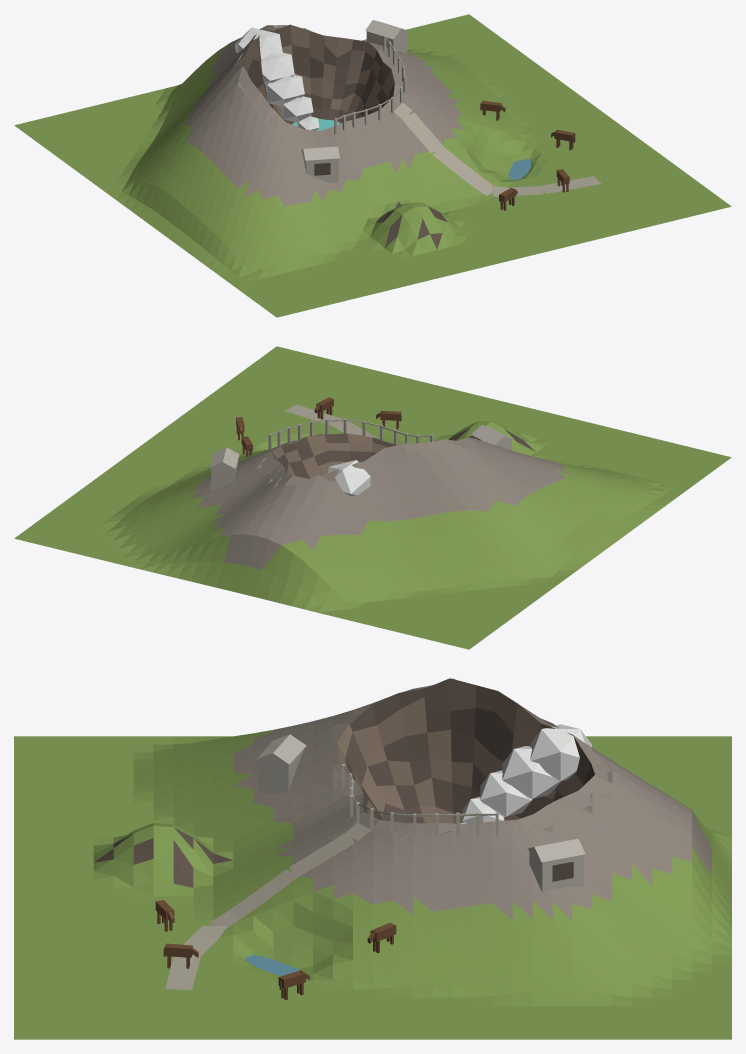
File: mount-aso.glb
3 views of the same model, one above another, from view 1: azimuth 30°, elevation 25°; view 2: azimuth 150°, elevation 25°; view 3: azimuth 270°, elevation 25° (orthographic). The views are drawn at different scales.
Parts seen in each view (by area): view 1: aso_grass, aso_ash, aso_strata2, aso_strata1, aso_steam, aso_concrete, aso_pave, aso_horse; view 2: aso_grass, aso_ash, aso_concrete, aso_strata2, aso_strata1, aso_steam, aso_horse, aso_pave; view 3: aso_grass, aso_ash, aso_strata2, aso_strata1, aso_steam, aso_concrete, aso_pave, aso_horse.
Part boxes in pixels (left/top/right/bottom): aso_grass: left=14, top=14, right=731, bottom=317; aso_ash: left=185, top=25, right=462, bottom=206; aso_strata2: left=248, top=25, right=575, bottom=249; aso_strata1: left=243, top=24, right=394, bottom=122; aso_steam: left=234, top=27, right=319, bottom=130; aso_concrete: left=301, top=20, right=408, bottom=183; aso_pave: left=394, top=103, right=601, bottom=196; aso_horse: left=480, top=100, right=575, bottom=210; aso_grass: left=14, top=346, right=731, bottom=649; aso_ash: left=187, top=434, right=572, bottom=569; aso_concrete: left=210, top=418, right=512, bottom=490; aso_strata2: left=249, top=415, right=535, bottom=478; aso_strata1: left=272, top=433, right=387, bottom=478; aso_steam: left=327, top=460, right=371, bottom=495; aso_horse: left=236, top=397, right=400, bottom=456; aso_pave: left=285, top=404, right=376, bottom=437; aso_grass: left=14, top=726, right=731, bottom=1039; aso_ash: left=233, top=678, right=711, bottom=920; aso_strata2: left=94, top=678, right=594, bottom=989; aso_strata1: left=337, top=678, right=582, bottom=823; aso_steam: left=460, top=724, right=591, bottom=823; aso_concrete: left=257, top=734, right=585, bottom=892; aso_pave: left=165, top=823, right=370, bottom=990; aso_horse: left=155, top=900, right=396, bottom=999.
Bounding box in the file's own units: 22.32 × 5.4 × 22.32.
